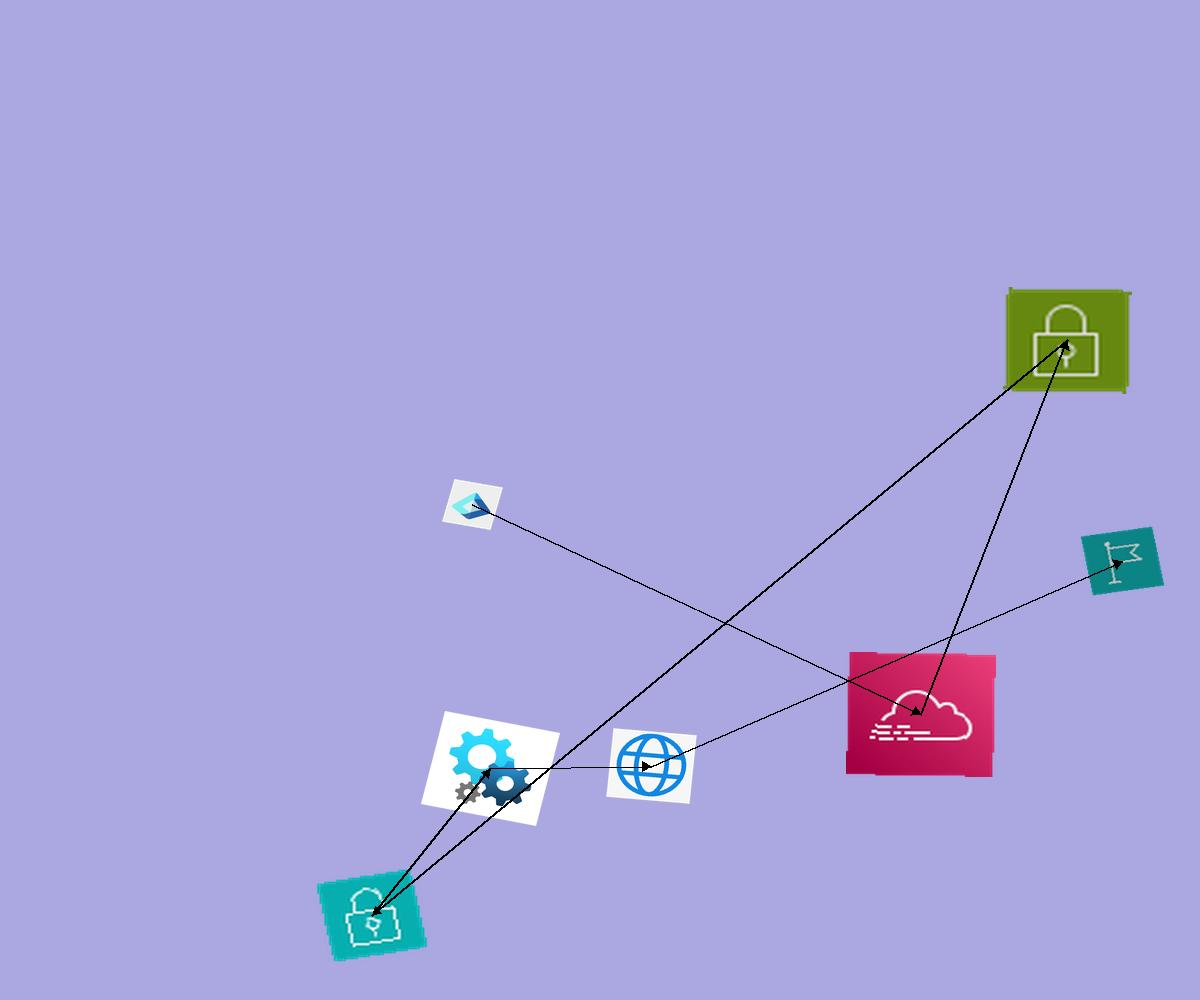AWS-CloudTrail: (846, 652, 996, 777)
AWS-Private-subnet: (315, 868, 429, 963)
AWS-Public-subnet: (1003, 287, 1132, 394)
AWS-Region: (1080, 526, 1165, 596)
Azure_api: (421, 711, 560, 826)
Azure_http: (606, 728, 697, 804)
Azure_microsoft_entra: (442, 479, 503, 530)
